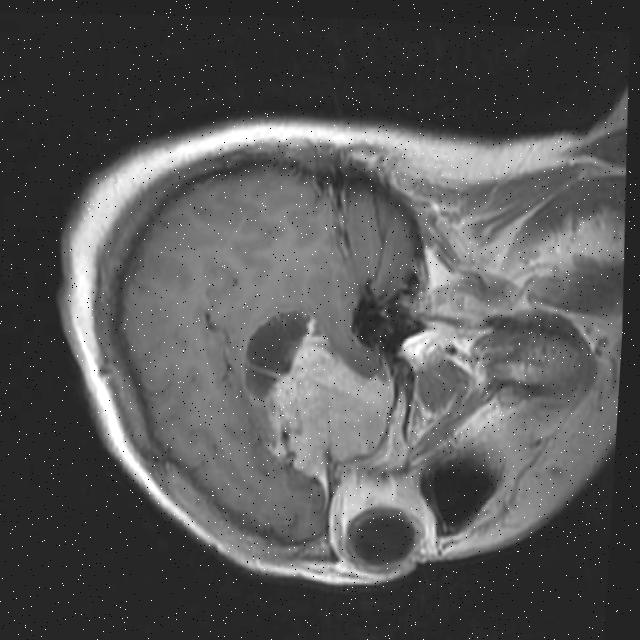Meningioma: (252, 309, 403, 515)
